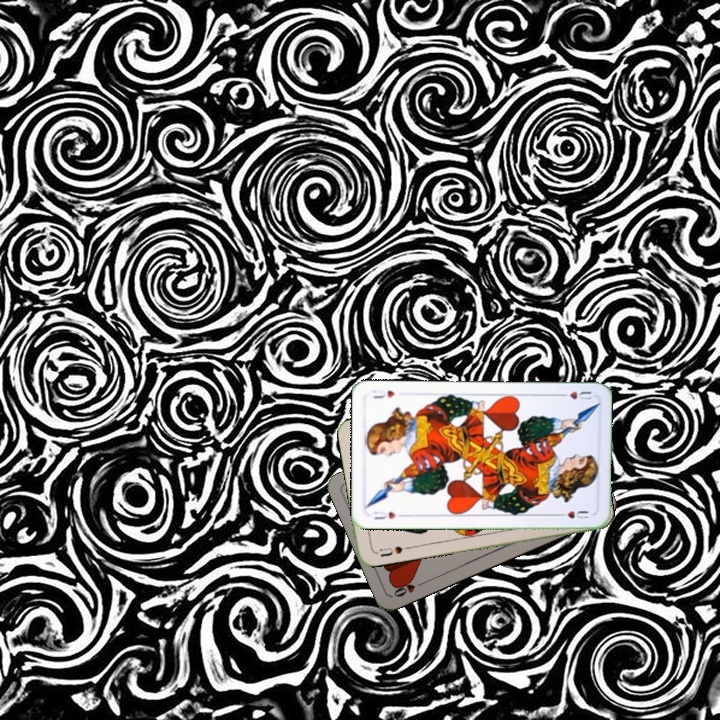HO: (390, 576, 428, 600)
HU: (555, 387, 594, 402), (370, 507, 406, 522)
SU: (371, 542, 412, 560)
